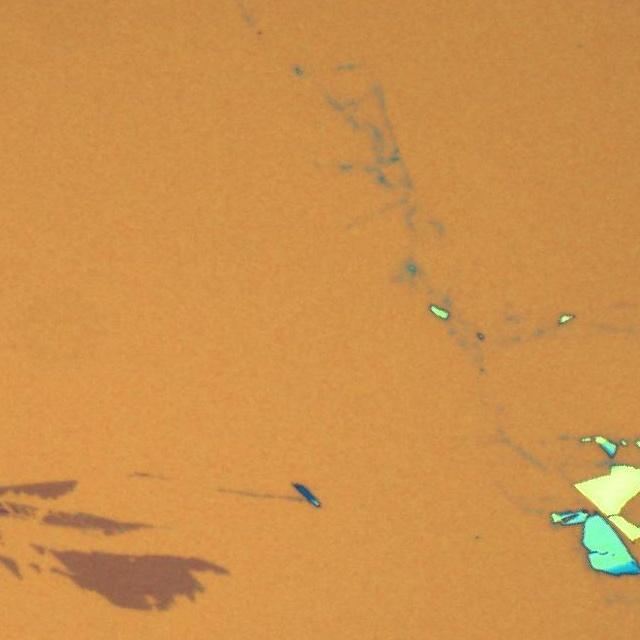monolayer-eWW4: (48, 544, 232, 614), (0, 507, 153, 539), (0, 478, 79, 502), (0, 552, 23, 580)
